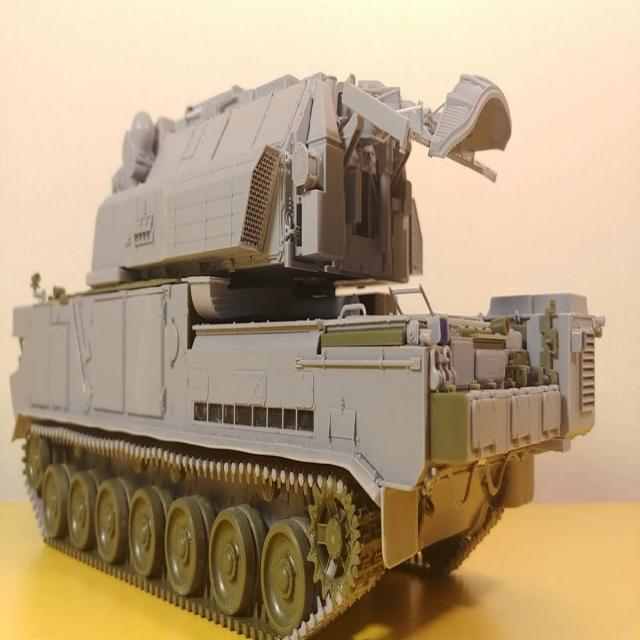MIL_EW_RDR: (10, 93, 599, 614)
